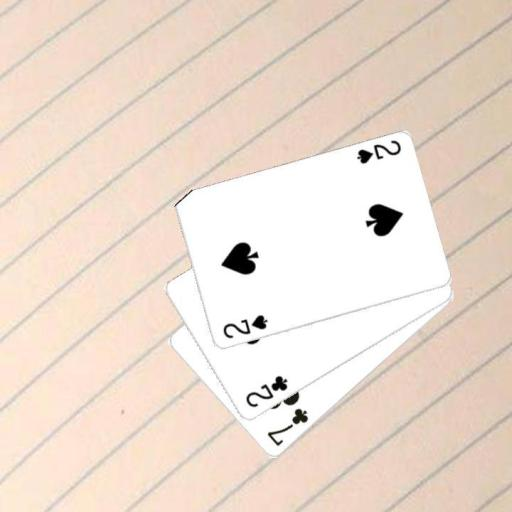2C: (242, 373, 289, 410)
2S: (219, 312, 269, 341), (353, 137, 403, 166)
7C: (264, 405, 310, 448)
